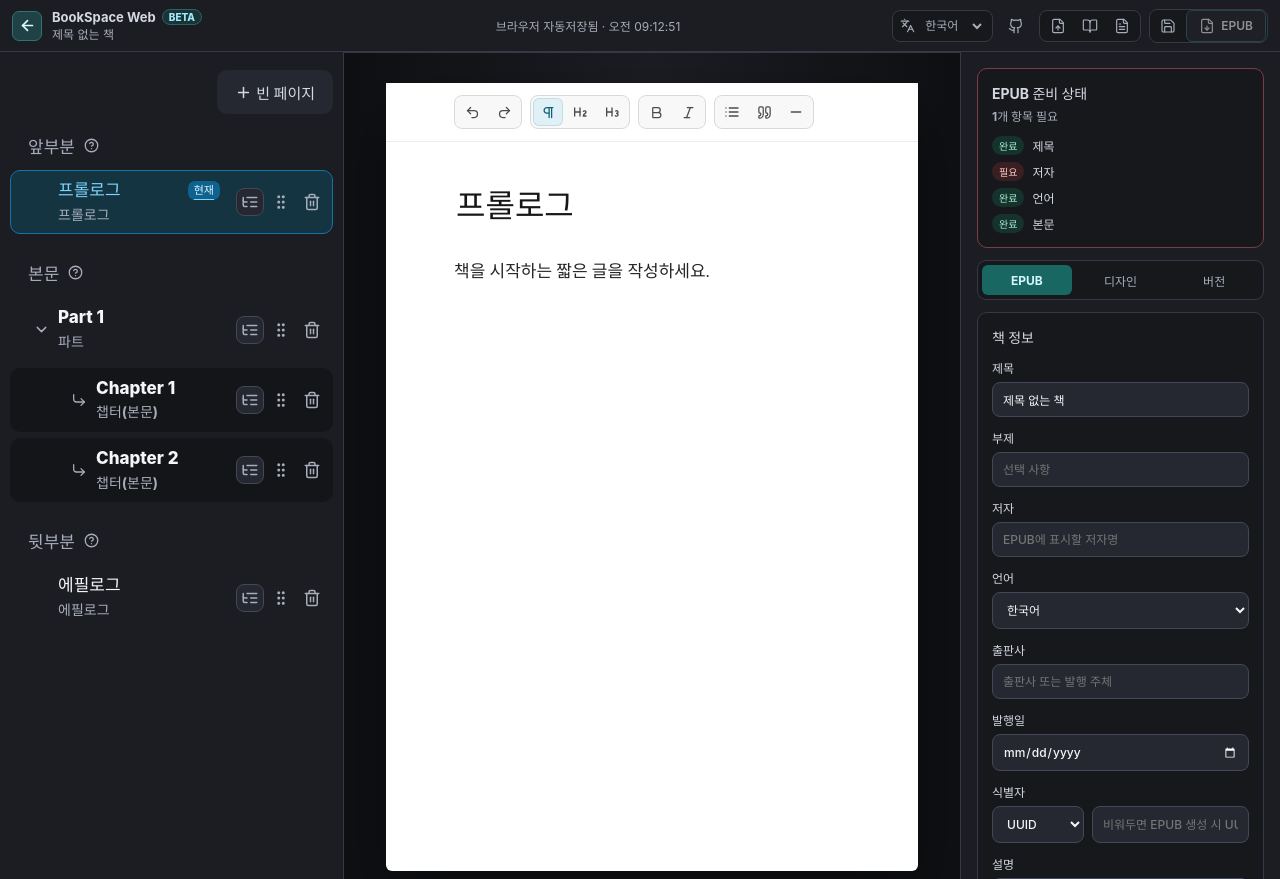
it: BookSpace Web editor › deletes a page from the structure pane and selects the next available page
This screenshot has width=1280, height=879.
Click the button titled "삭제": (312, 202) 298,188 -> 326,216
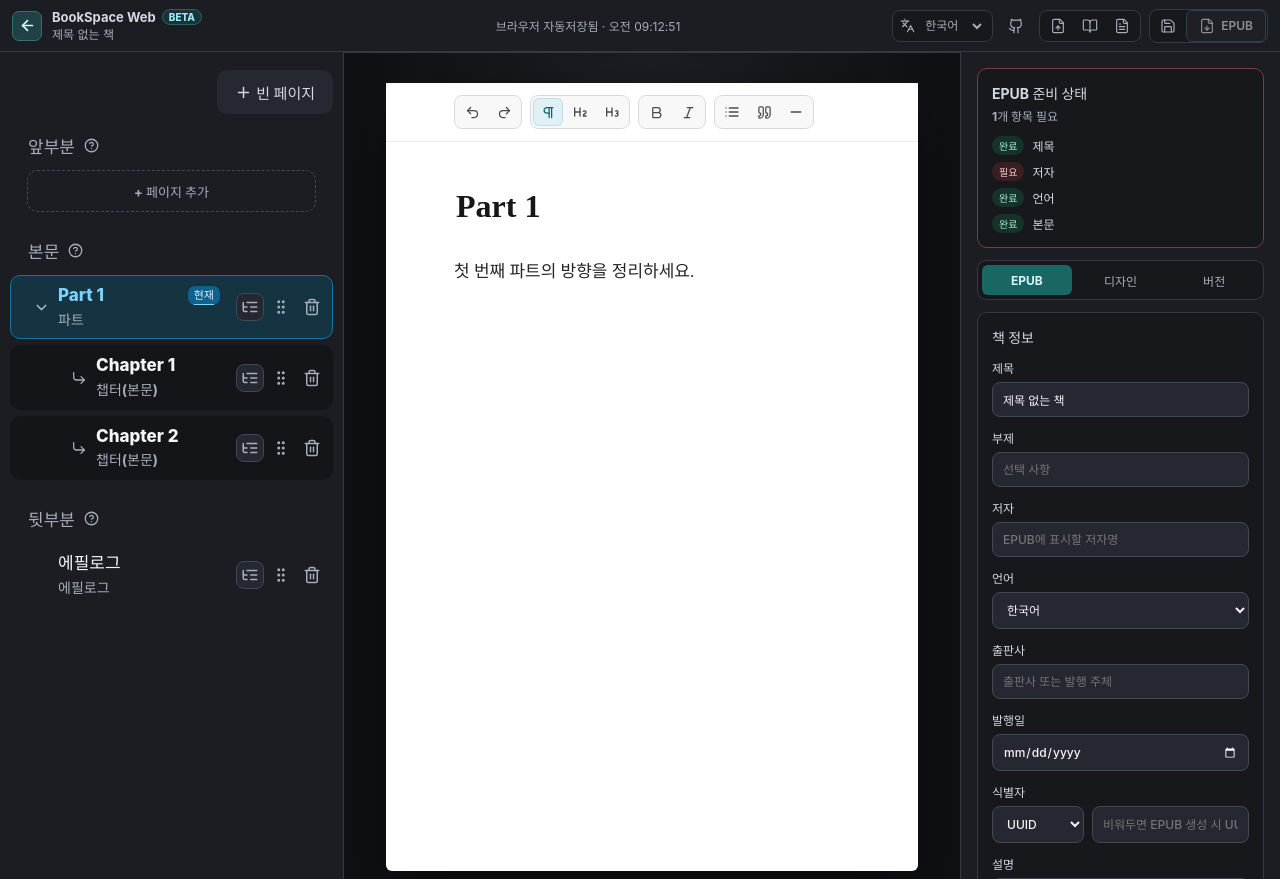
Check: the button "프롤로그 현재 프롤로그" is gone
Check: the field named "챕터 제목" holds "Part 1", box 454,186 -> 850,227
